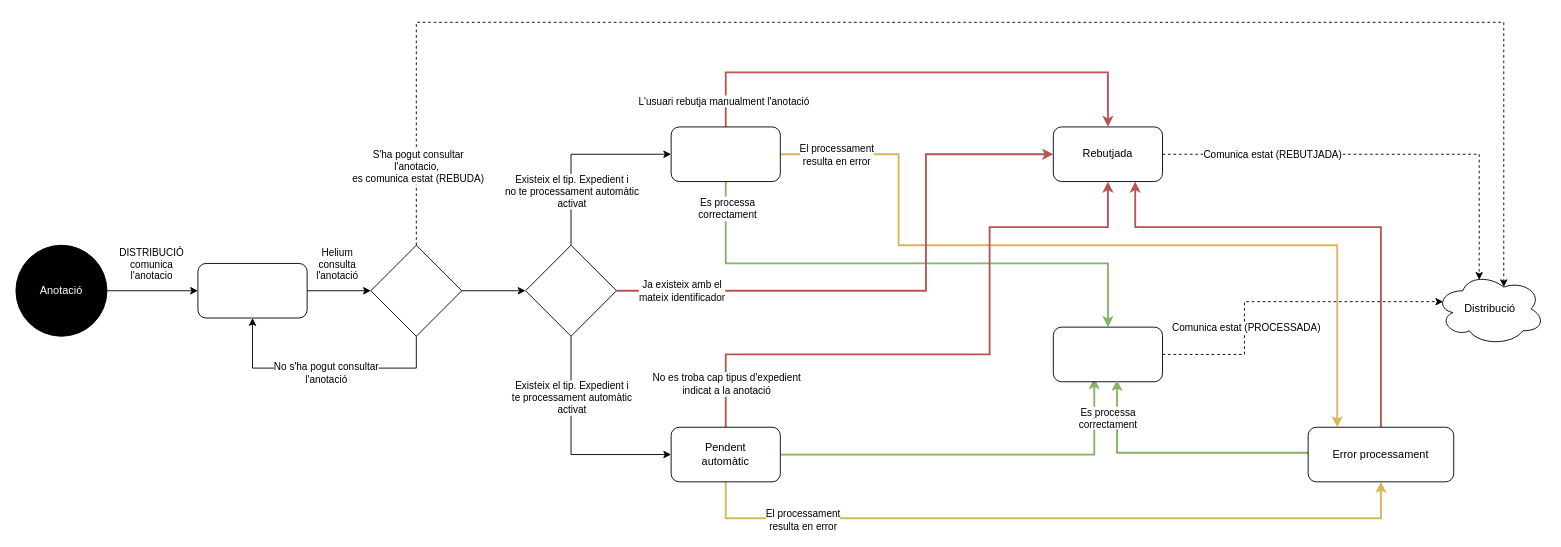
The diagram is 1561 pixels wide and 547 high, and some of its shapes have lost their labels. Here are the shapes that lost their labels. From the top down, the centre of each, then its label:
At point 725,154: "Pendent".
At point 252,290: "Comunicada".
At point 1107,354: "Processada".
